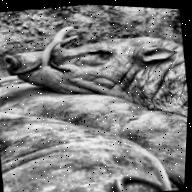boar: (0, 1, 192, 141)
